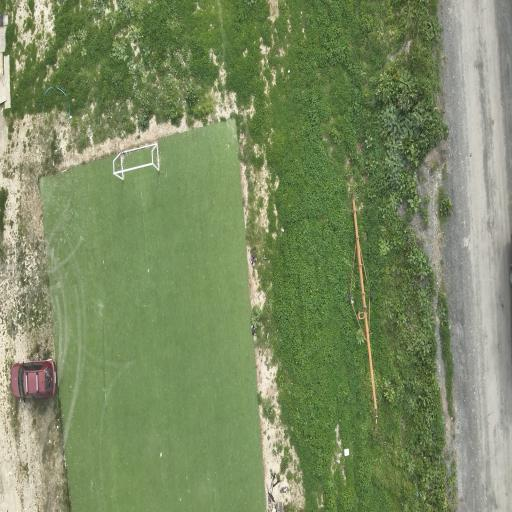car: (10, 359, 55, 397)
